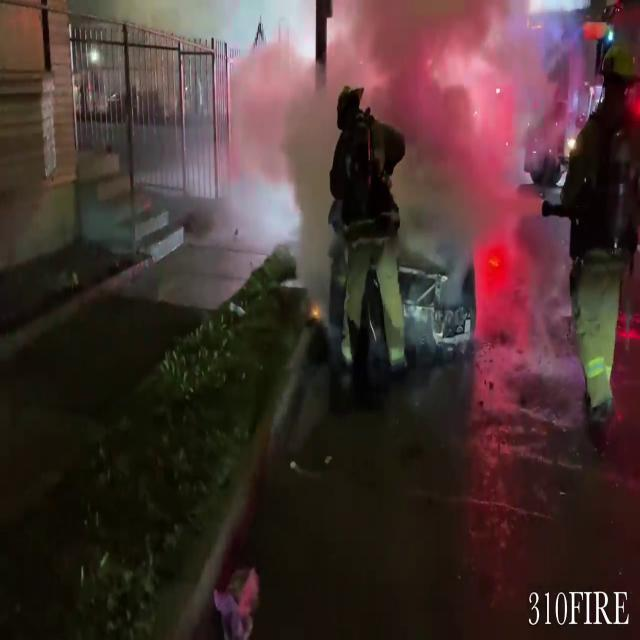Smoke: (373, 0, 574, 271), (202, 26, 353, 258)
